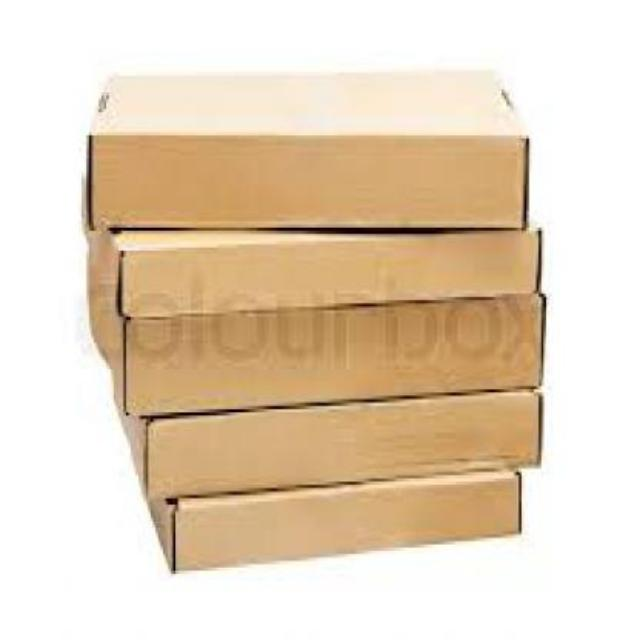cardboard_box: (85, 69, 528, 227), (144, 477, 520, 575), (104, 395, 546, 475), (85, 312, 545, 388), (83, 230, 547, 304)
